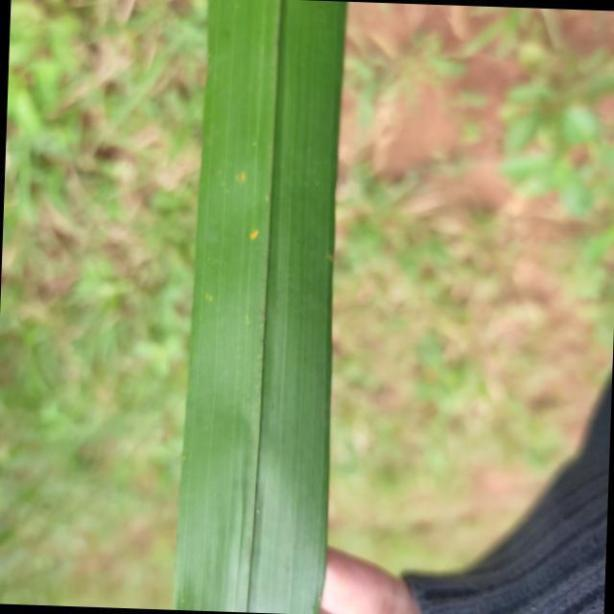Kalium: (171, 0, 350, 614)
